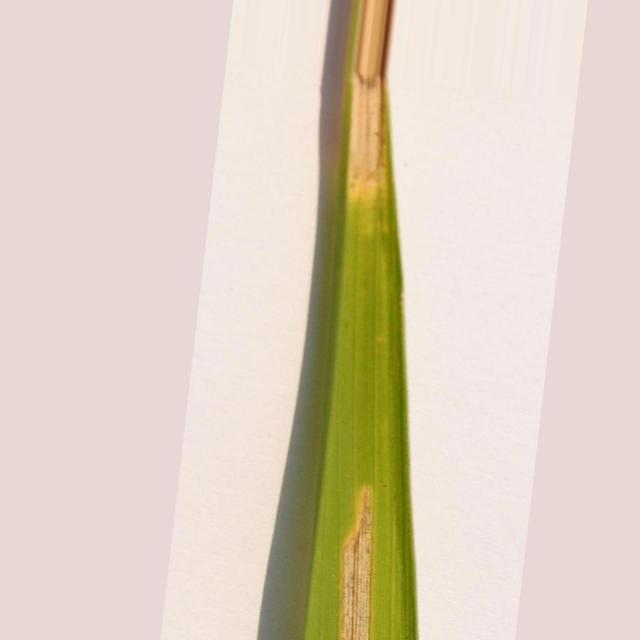Bacterial_Leaf_Blight: (348, 0, 390, 199), (339, 485, 372, 640)
